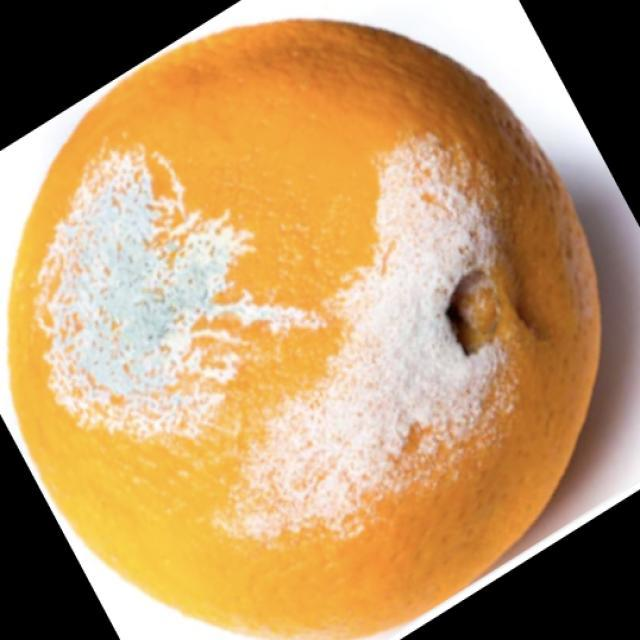sedikit-busuk: (8, 20, 599, 639)
